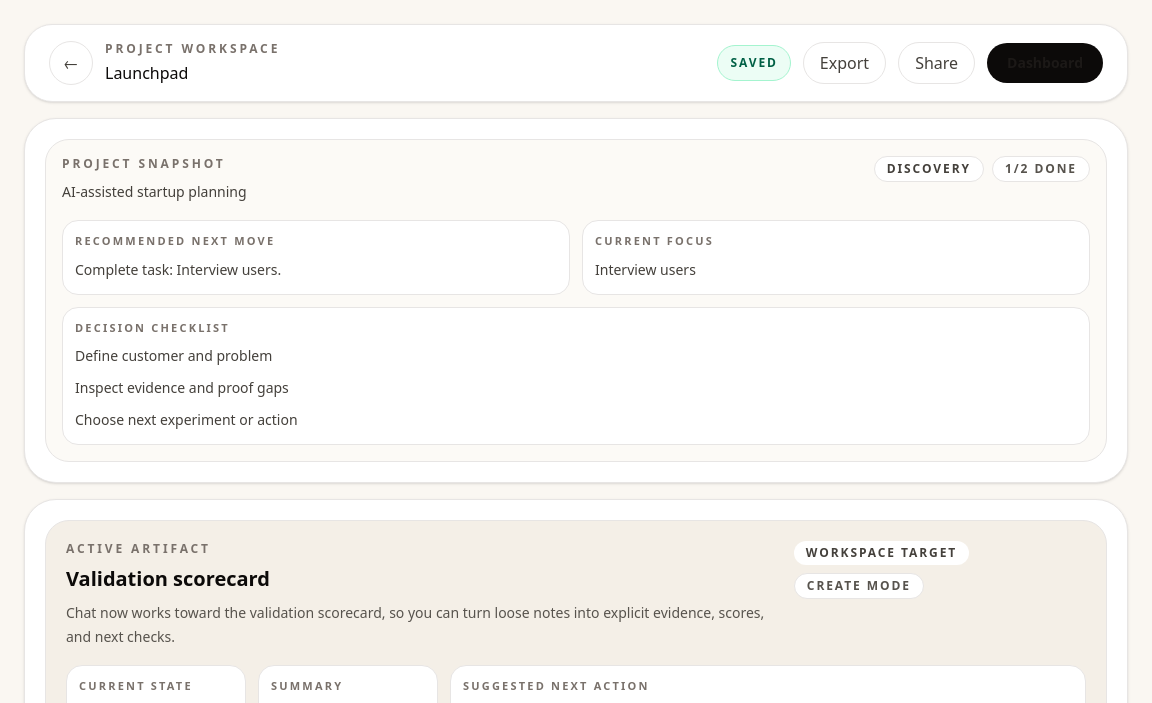
Scenario: ProjectWorkspacePage › surfaces sync failures and retries the latest optimistic snapshot
Replace the text in the field named "Project name" with "Retry me" at point(265, 73), box [105,61,425,85]
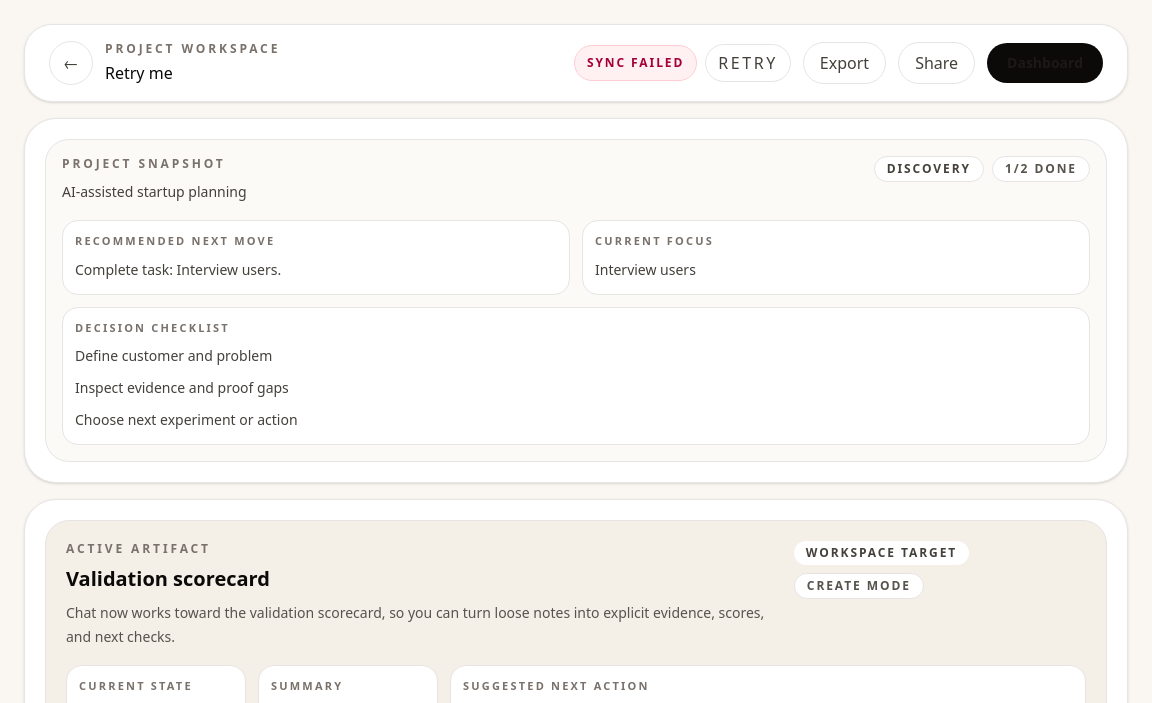
Check: the text "Sync failed" is shown, box [574,45,697,81]
Check: the button "Retry" is shown
Click the button "Retry" at point(748, 63), box [705,44,791,82]
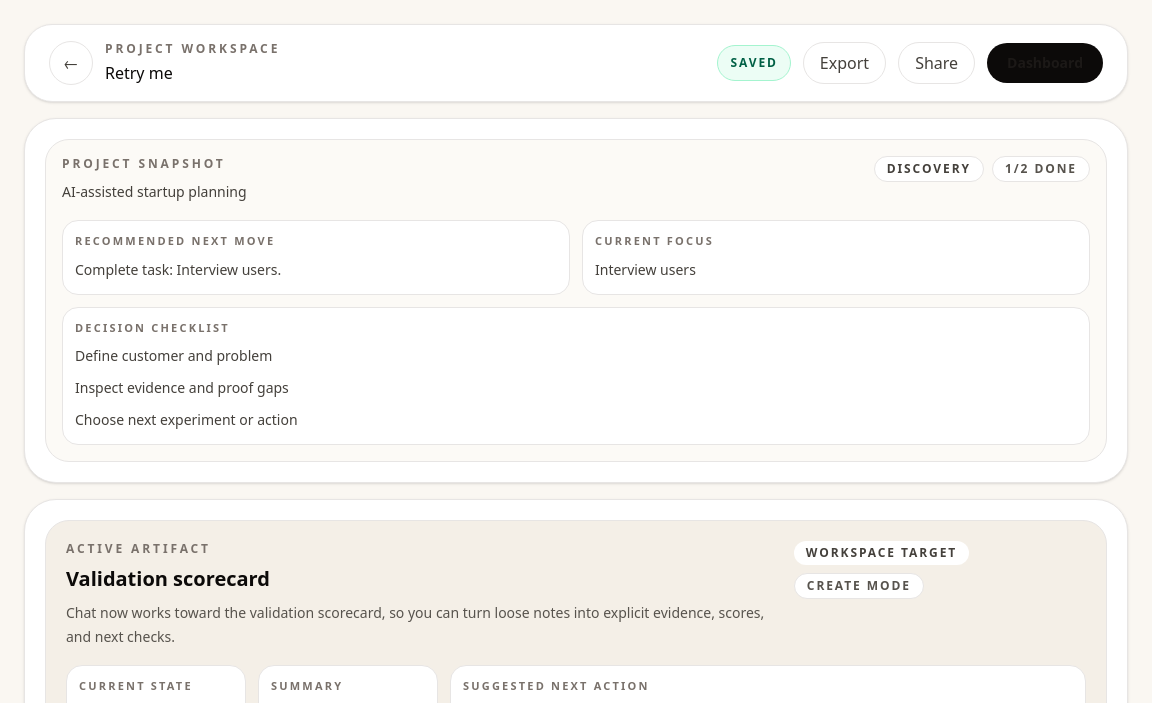
Check: the text "Saved" is shown, box [717,45,791,81]
